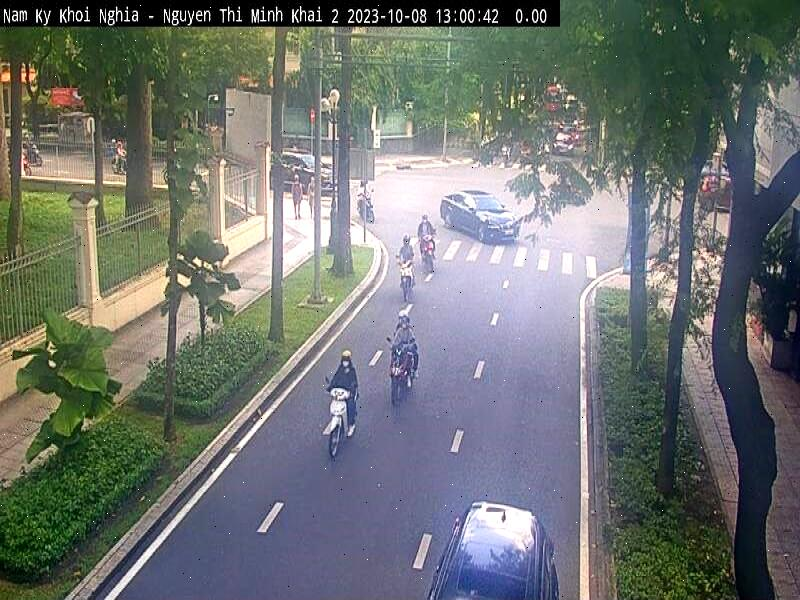car: (425, 501, 561, 600), (439, 191, 518, 243)
motorcycle: (321, 391, 353, 461)
